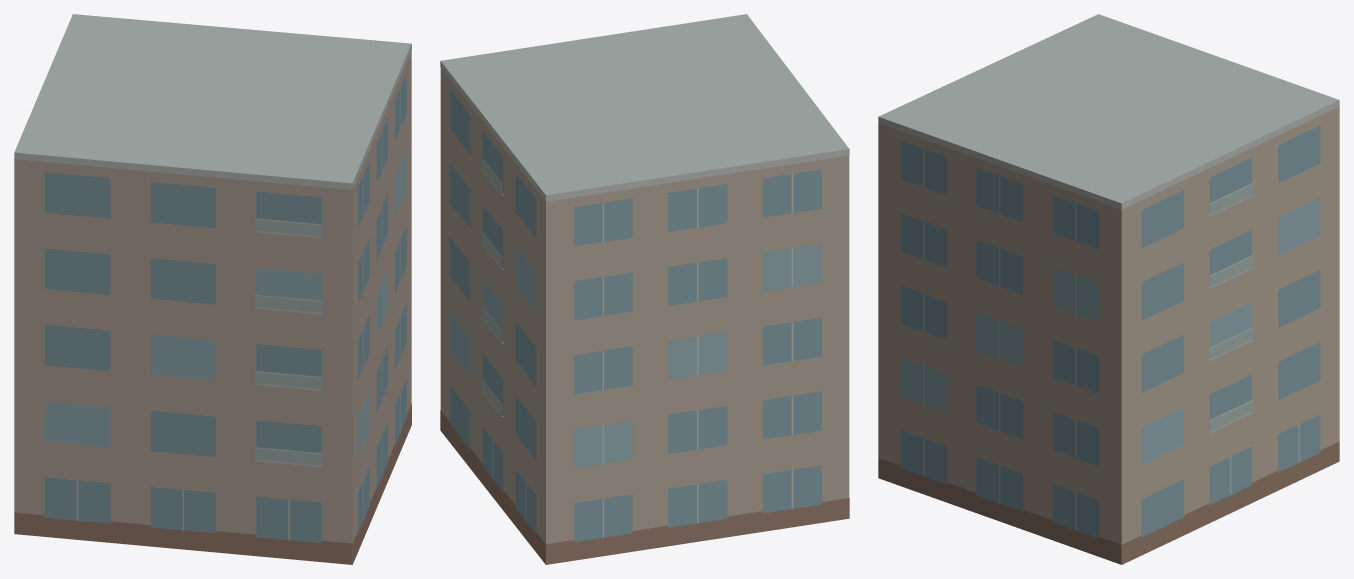
The model's file is survey-upis-32906011.glb.
3 renders of one model, left to right at view 1: azimuth 30°, elevation 25°; view 2: azimuth 150°, elevation 25°; view 3: azimuth 270°, elevation 25°, orthographic. The views are drawn at different scales.
Parts seen in each view (by area): view 1: survey-upis-32906011.tmp; view 2: survey-upis-32906011.tmp; view 3: survey-upis-32906011.tmp.
Part boxes in pixels (x1=…): survey-upis-32906011.tmp: x1=14, y1=14, x2=411, y2=564; survey-upis-32906011.tmp: x1=440, y1=14, x2=849, y2=564; survey-upis-32906011.tmp: x1=878, y1=14, x2=1339, y2=564.
Size of the model in its own units: 15.52 by 13.8 by 15.97.
